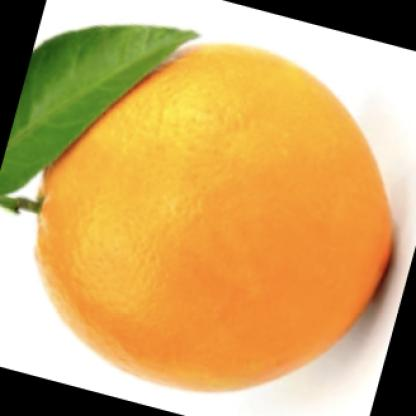fresh: (37, 41, 390, 391)
